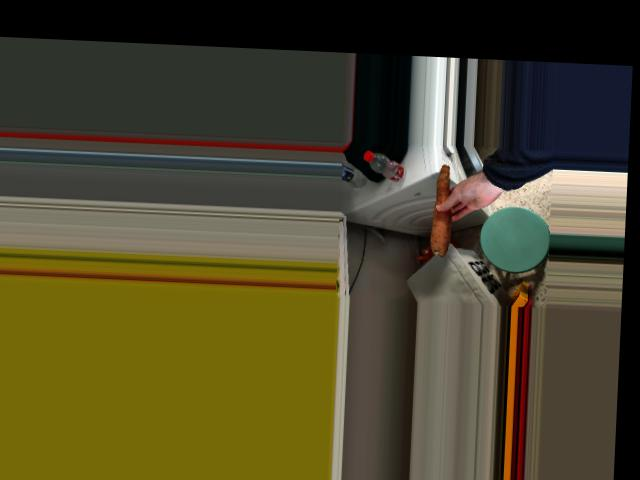sweet_potato: (428, 163, 461, 254)
